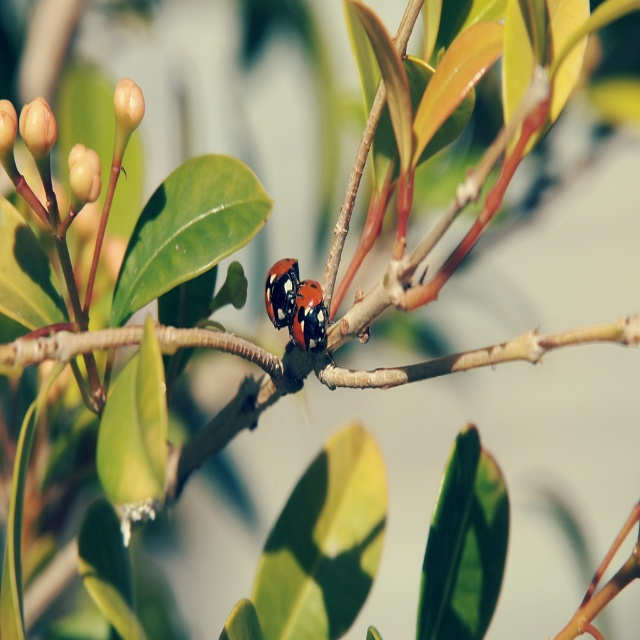Ladybug: (290, 278, 331, 359), (264, 253, 302, 332)
